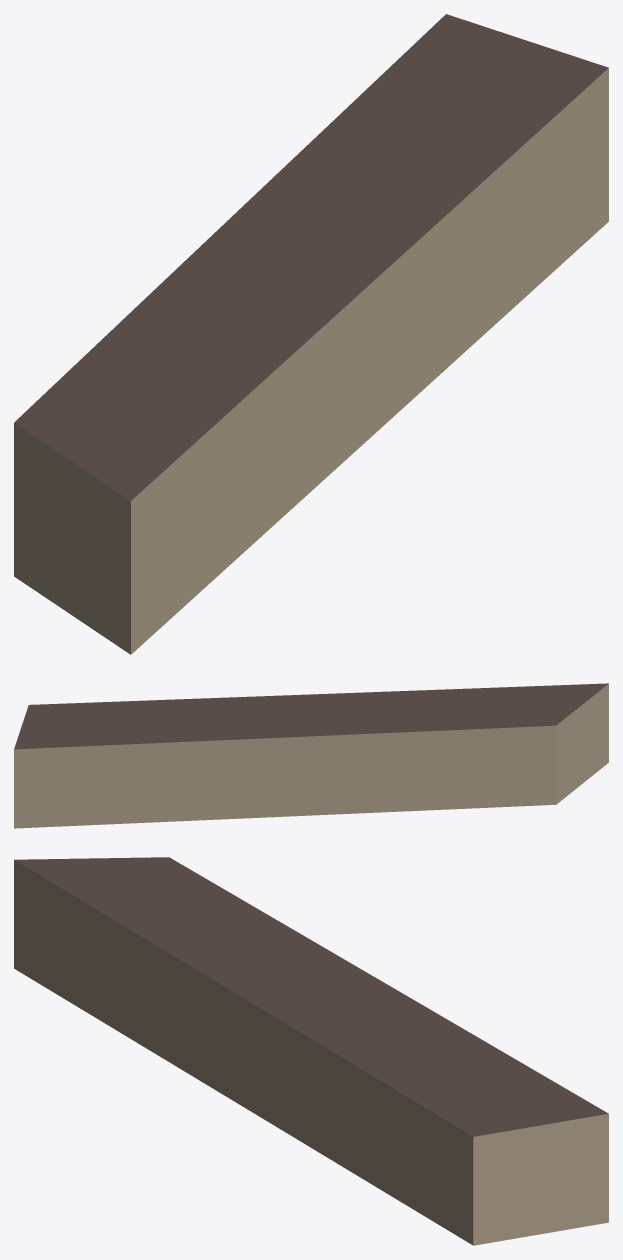
The picture shows the model from 3 angles, top to bottom: view 1: azimuth 30°, elevation 25°; view 2: azimuth 150°, elevation 25°; view 3: azimuth 270°, elevation 25°; orthographic projection. The views are drawn at different scales.
Parts seen in each view (by area): view 1: HP-w369342539; view 2: HP-w369342539; view 3: HP-w369342539.
Part boxes in pixels (left/top/right/bottom): HP-w369342539: left=14, top=14, right=608, bottom=654; HP-w369342539: left=14, top=683, right=608, bottom=828; HP-w369342539: left=14, top=857, right=608, bottom=1245.
Size of the model in its own units: 49.6 by 9 by 44.58.
